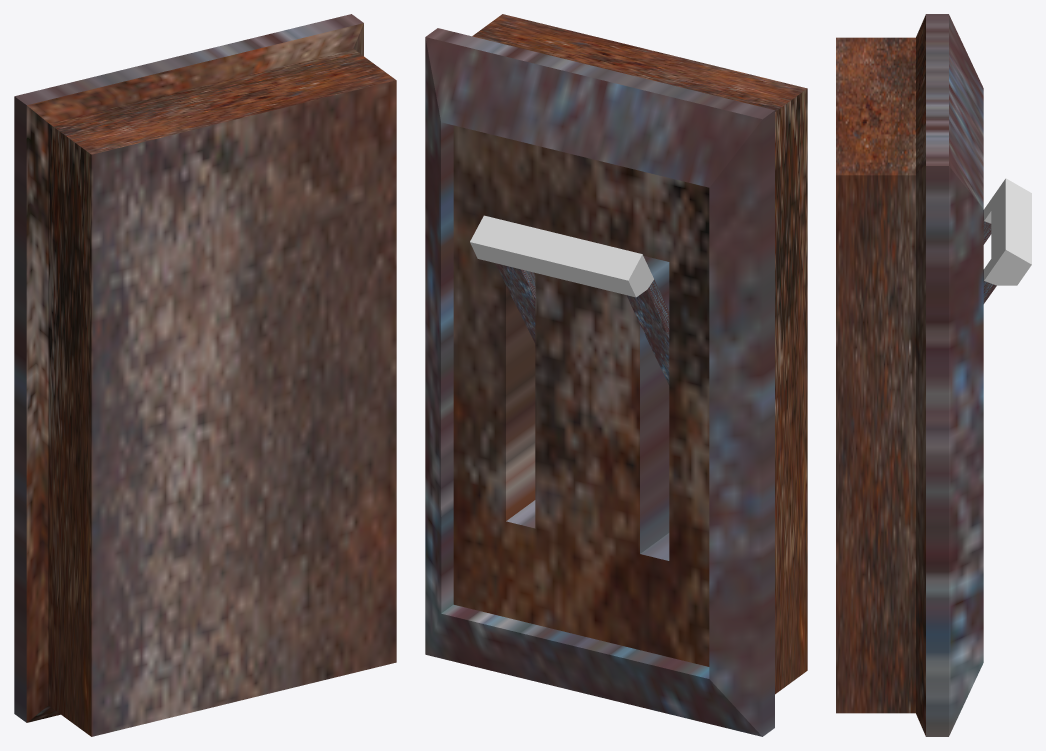
File: Lever_FBX.fbx
3 views of the same model, side by side, from view 1: azimuth 30°, elevation 25°; view 2: azimuth 150°, elevation 25°; view 3: azimuth 270°, elevation 25° (orthographic). The views are drawn at different scales.
Visible parts, largest first — view 1: Cube; view 2: Cube, Cube.001; view 3: Cube, Cube.001.
Part boxes in pixels (left/top/right/bottom): Cube: left=14, top=14, right=396, bottom=736; Cube: left=425, top=14, right=807, bottom=736; Cube.001: left=470, top=215, right=669, bottom=385; Cube: left=836, top=14, right=983, bottom=736; Cube.001: left=983, top=178, right=1031, bottom=303.
Size of the model in its own units: 48.89 by 85.57 by 26.61.
